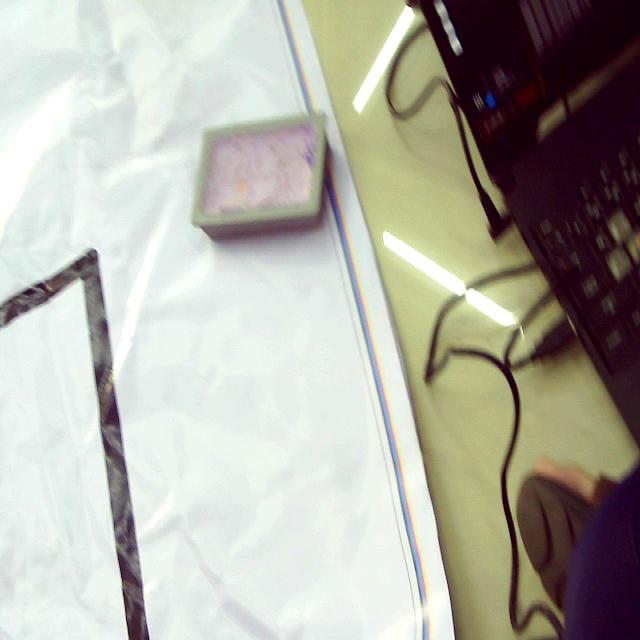block: (190, 114, 330, 238)
